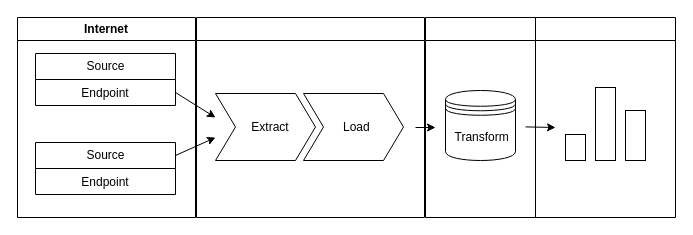
Image size: 693x235. Some labels were removed from this diagram. The shapes that lost their labels are listed below. From the top down, each one's centre as x and y in pixels, then its label:
At pixel 310 117: "Local(Glue + Lambda로 대체)".
At pixel 480 117: "On-premise".
At pixel 605 117: "Preset.io".
